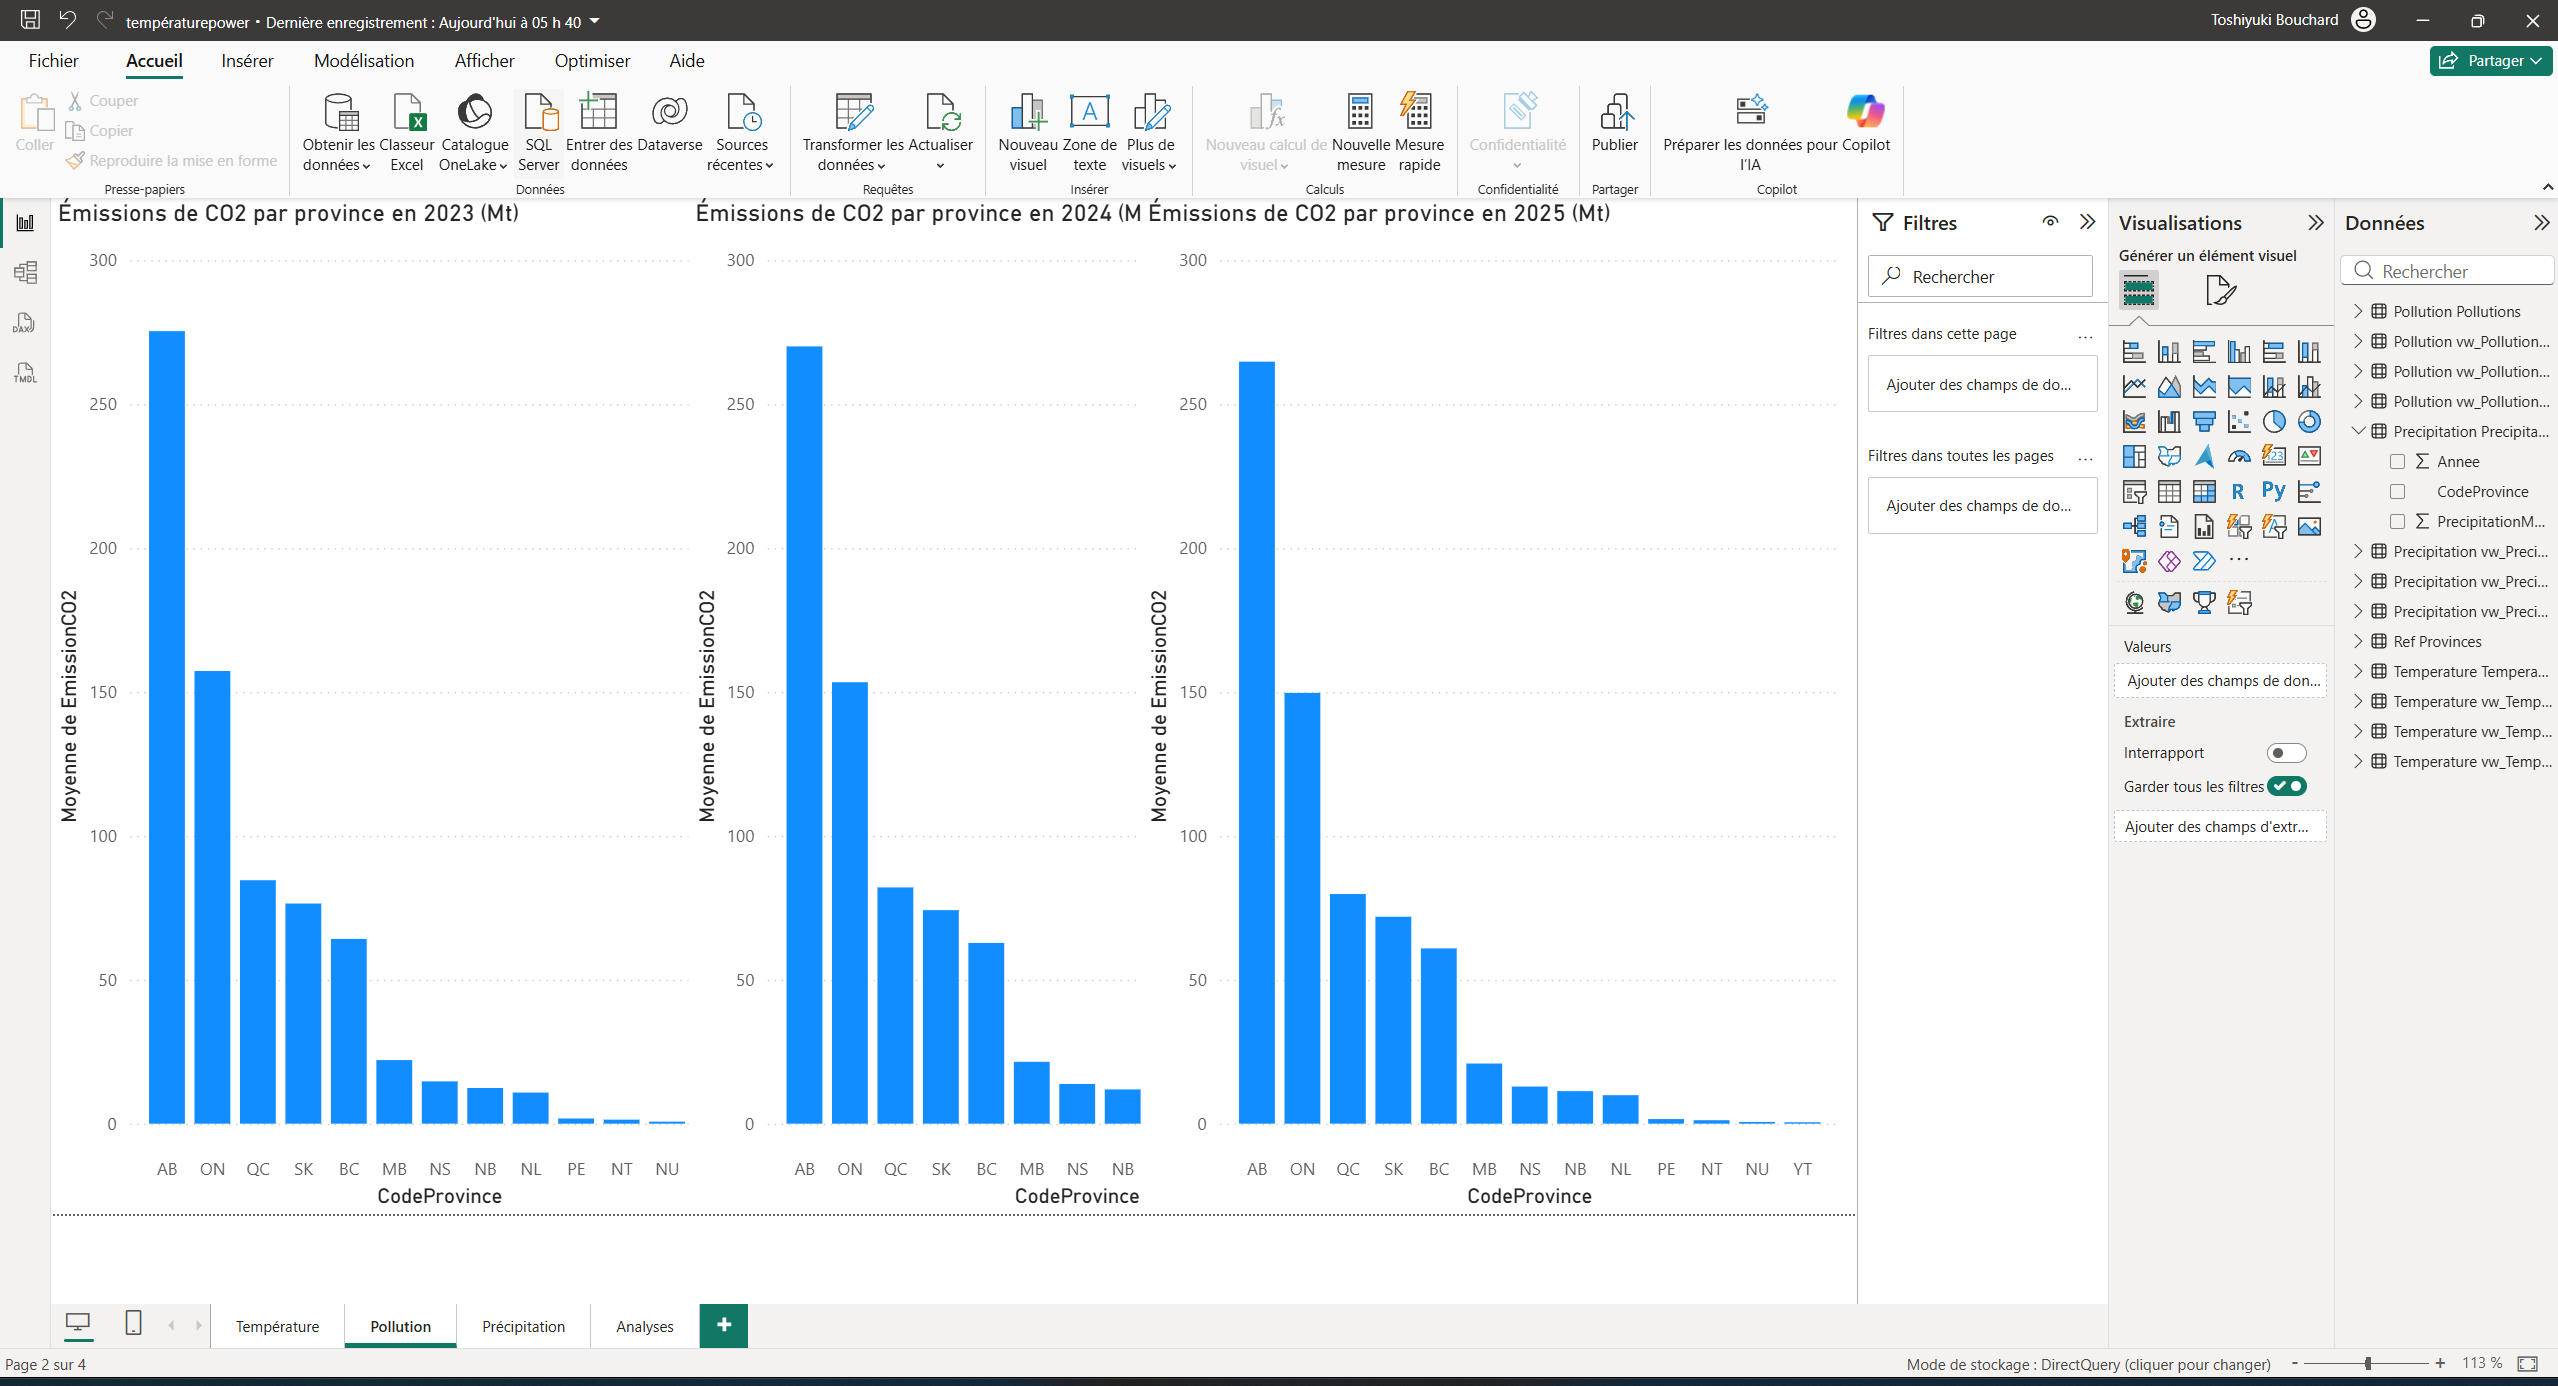

The dashboard page shown, as its layout file describes it:
{"tool":"powerbi","page":{"name":"Pollution","canvas":[1280,720],"ordinal":1},"visuals":[{"type":"clusteredColumnChart","title":"Émissions de CO2 par province en 2023 (Mt)","fields":{"Category":["Pollution vw_Pollution_2023.CodeProvince"],"Y":["Avg(Pollution vw_Pollution_2023.EmissionCO2)"]},"box":[0,0,500,720.3],"z":0},{"type":"clusteredColumnChart","title":"Émissions de CO2 par province en 2024 (Mt)","fields":{"Category":["Pollution vw_Pollution_2024.CodeProvince"],"Y":["Avg(Pollution vw_Pollution_2024.EmissionCO2)"]},"box":[451.8,0,500,720.3],"z":1000},{"type":"clusteredColumnChart","title":"Émissions de CO2 par province en 2025 (Mt)","fields":{"Category":["Pollution vw_Pollution_2025.CodeProvince"],"Y":["Avg(Pollution vw_Pollution_2025.EmissionCO2)"]},"box":[772.5,0,500,720.3],"z":2000}]}

Visuals, with their boxes on the page's 1280x720 design canvas (x1, y1, x2, y2). These are canvas units, not pixel positions in the 2558x1386 screenshot, which may show the page scaled, cropped or inside an application window:
"Émissions de CO2 par province en 2023 (Mt)" clusteredColumnChart: 0, 0, 500, 720
"Émissions de CO2 par province en 2024 (Mt)" clusteredColumnChart: 452, 0, 952, 720
"Émissions de CO2 par province en 2025 (Mt)" clusteredColumnChart: 772, 0, 1272, 720
